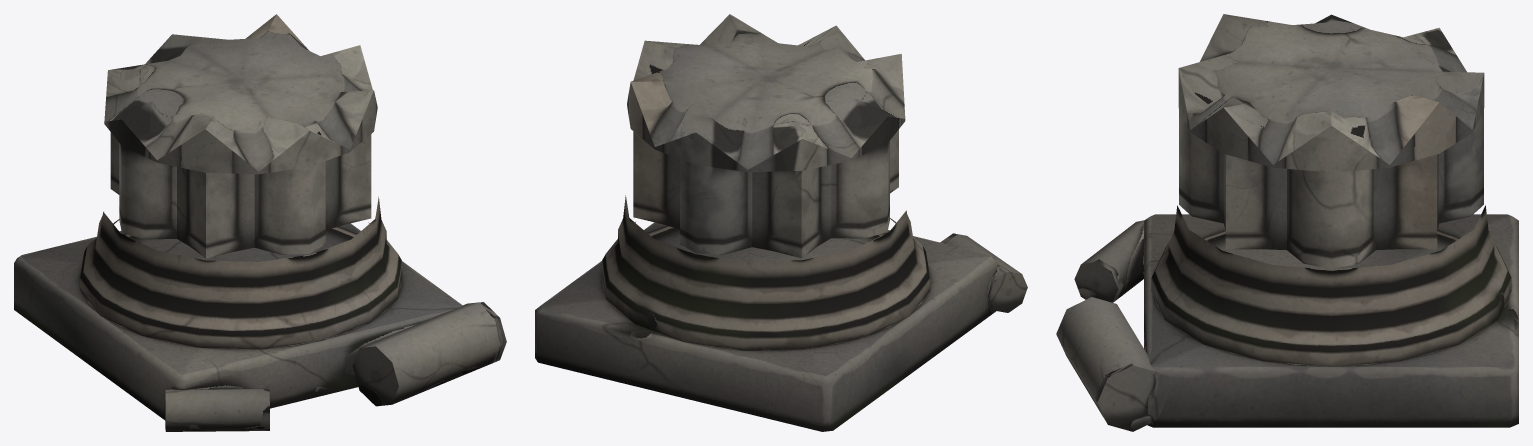
Rendered from cathedral_pillar_low.glb.
The picture shows the model from 3 angles, left to right: view 1: azimuth 30°, elevation 25°; view 2: azimuth 150°, elevation 25°; view 3: azimuth 270°, elevation 25°; orthographic projection. The views are drawn at different scales.
Parts seen in each view (by area): view 1: cathedral_pillar_low; view 2: cathedral_pillar_low; view 3: cathedral_pillar_low.
Part boxes in pixels (<box>): cathedral_pillar_low: <box>14,14,506,431</box>; cathedral_pillar_low: <box>535,14,1027,431</box>; cathedral_pillar_low: <box>1056,14,1518,431</box>.
Size of the model in its own units: 1.45 by 1.12 by 1.61.
Materials: 1 (1 with a texture image).
